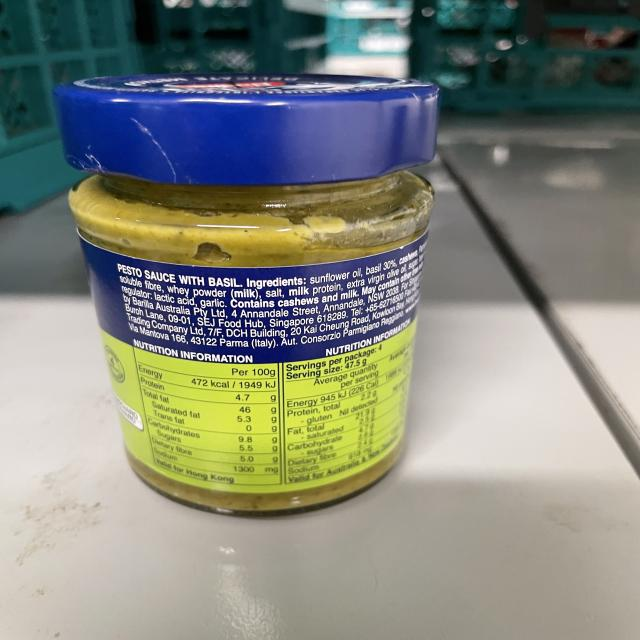object_name: (64, 77, 433, 520)
